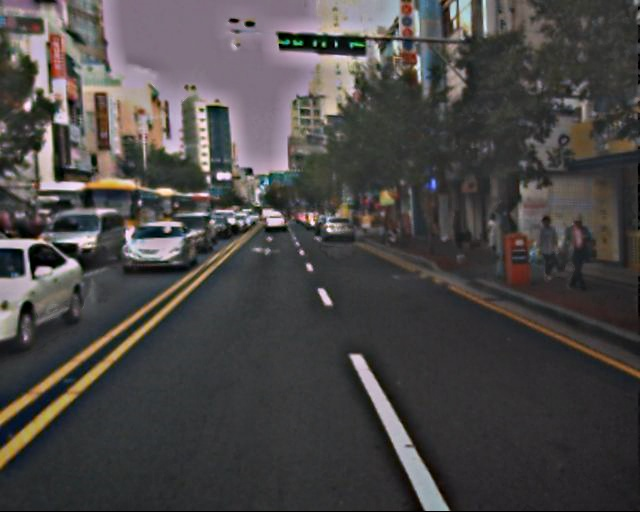person: (560, 210, 593, 291), (534, 213, 562, 281), (484, 213, 504, 261), (449, 209, 467, 254), (428, 209, 444, 249)
